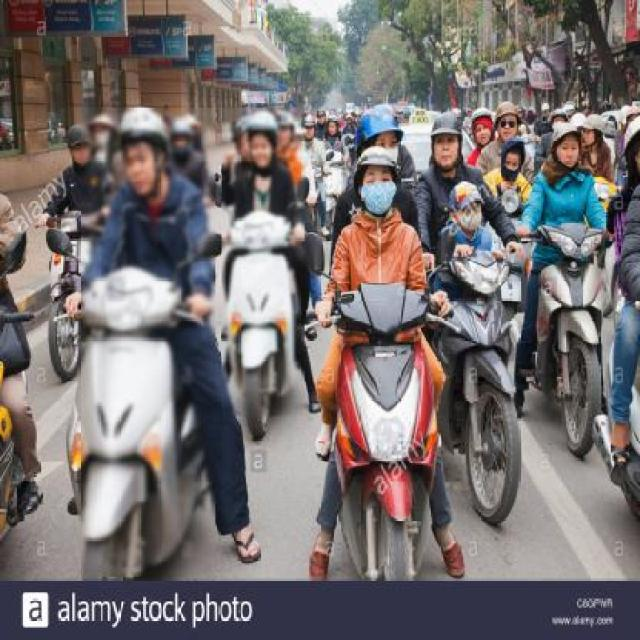helmet: (100, 98, 178, 211), (350, 146, 414, 216), (425, 102, 470, 170), (542, 118, 590, 172)
motorcycle: (60, 95, 272, 597), (290, 154, 491, 580), (420, 112, 523, 530), (538, 119, 628, 465)
